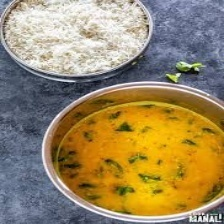rice: (0, 0, 153, 80)
